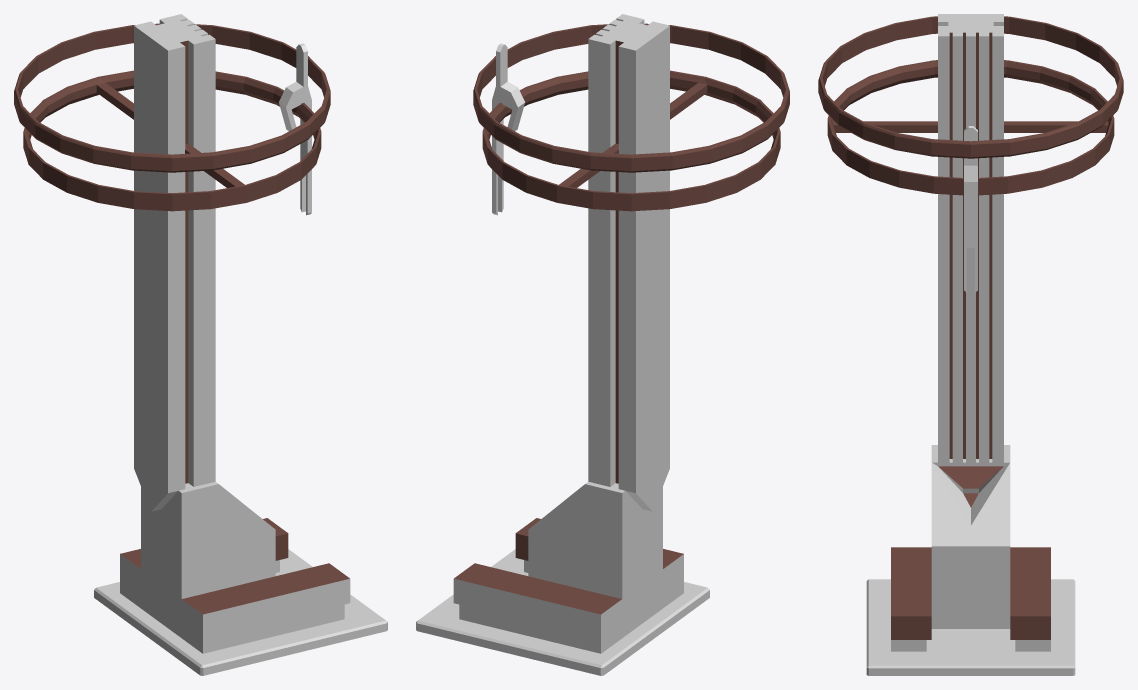
The picture shows the model from 3 angles, left to right: view 1: azimuth 30°, elevation 25°; view 2: azimuth 150°, elevation 25°; view 3: azimuth 270°, elevation 25°; orthographic projection. The views are drawn at different scales.
Parts seen in each view (by area): view 1: 2x2A, RotatingPillar; view 2: 2x2A, RotatingPillar; view 3: 2x2A, RotatingPillar.
Boxes of the visible parts, left/top/right/bottom form: 2x2A: left=14, top=14, right=387, bottom=675; RotatingPillar: left=278, top=43, right=311, bottom=215; 2x2A: left=416, top=14, right=789, bottom=675; RotatingPillar: left=492, top=43, right=525, bottom=215; 2x2A: left=818, top=14, right=1123, bottom=675; RotatingPillar: left=964, top=126, right=977, bottom=292.
Size of the model in its own units: 319 by 609 by 292.
